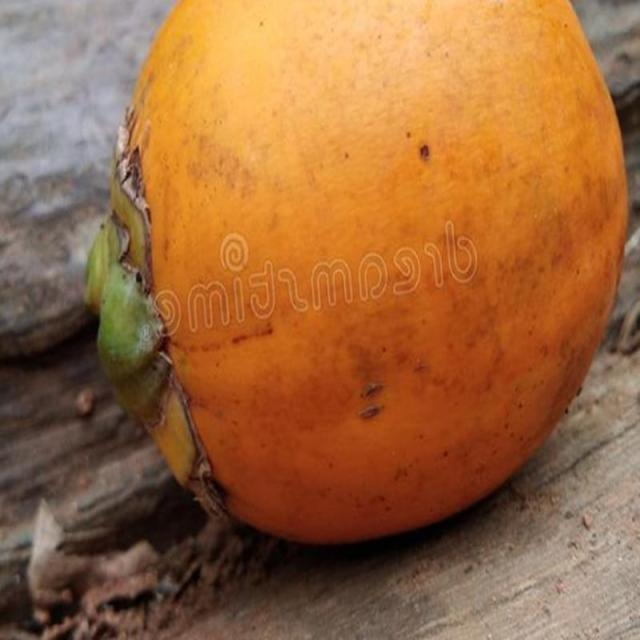good: (86, 0, 629, 549)
